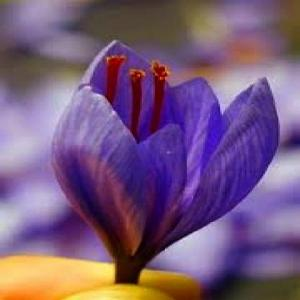Saffron: (53, 40, 278, 284)
